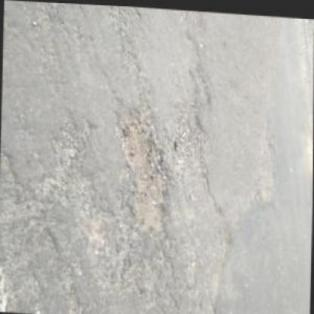Hueco: (110, 106, 172, 236), (171, 110, 208, 174)
